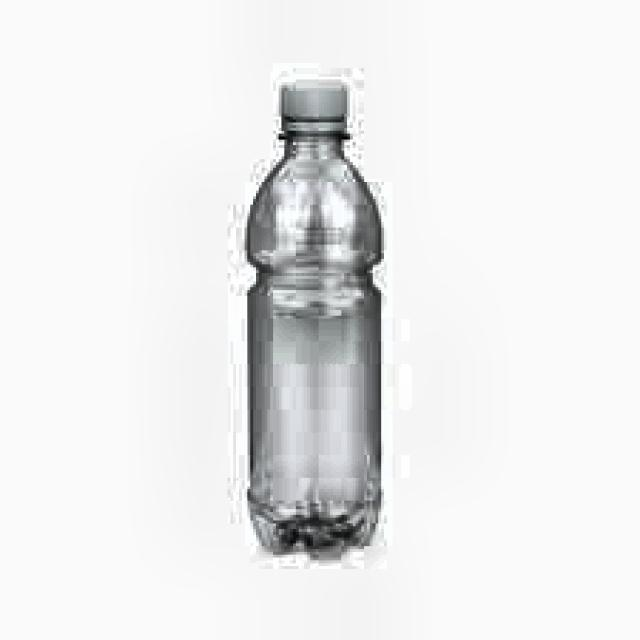plastic bottle: (249, 86, 381, 549)
